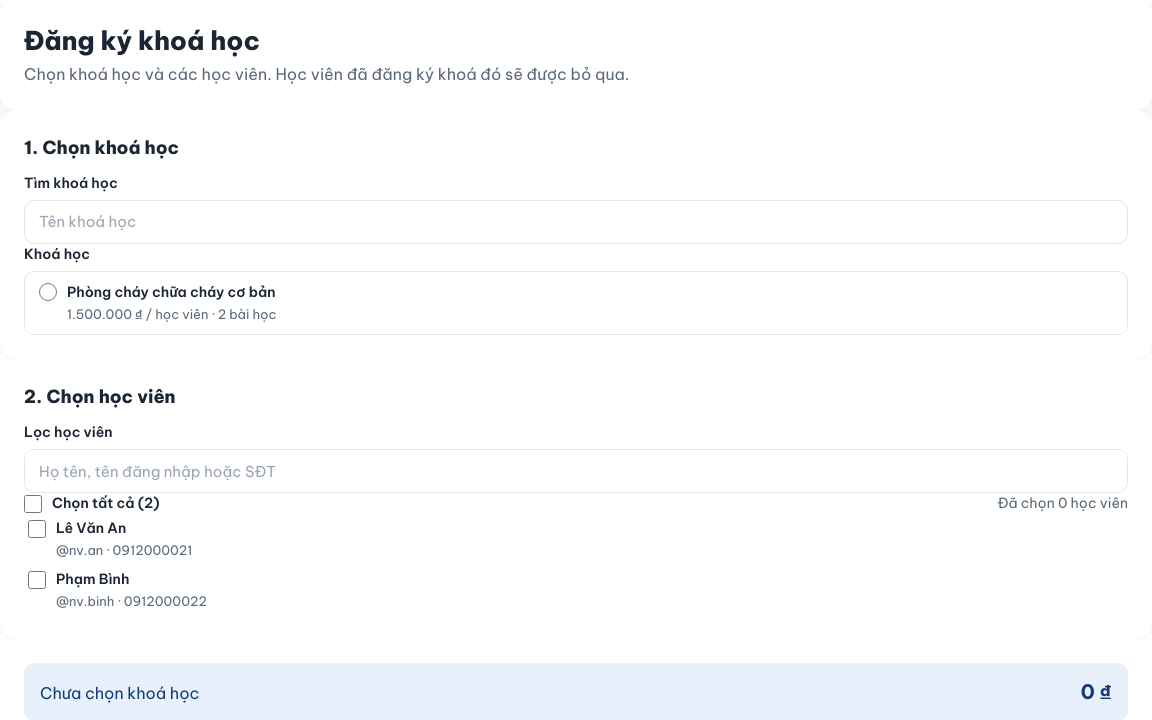
Góc doanh nghiệp › enrolls several learners and shows the transfer for the total
Click the radio button labelled "Phòng cháy chữa cháy cơ bản" at (48, 292), box [39,283,57,301]
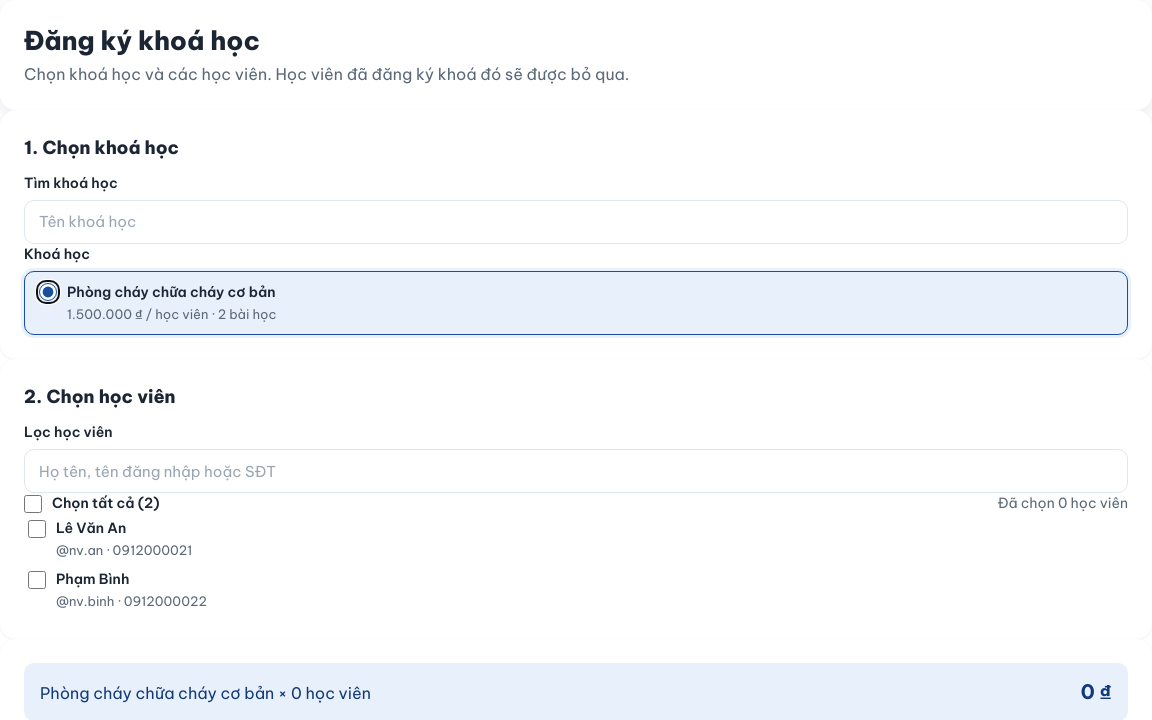
Click the checkbox labelled "Chọn tất cả (2)" at (33, 504), box [24,495,42,513]
(page scrolled)
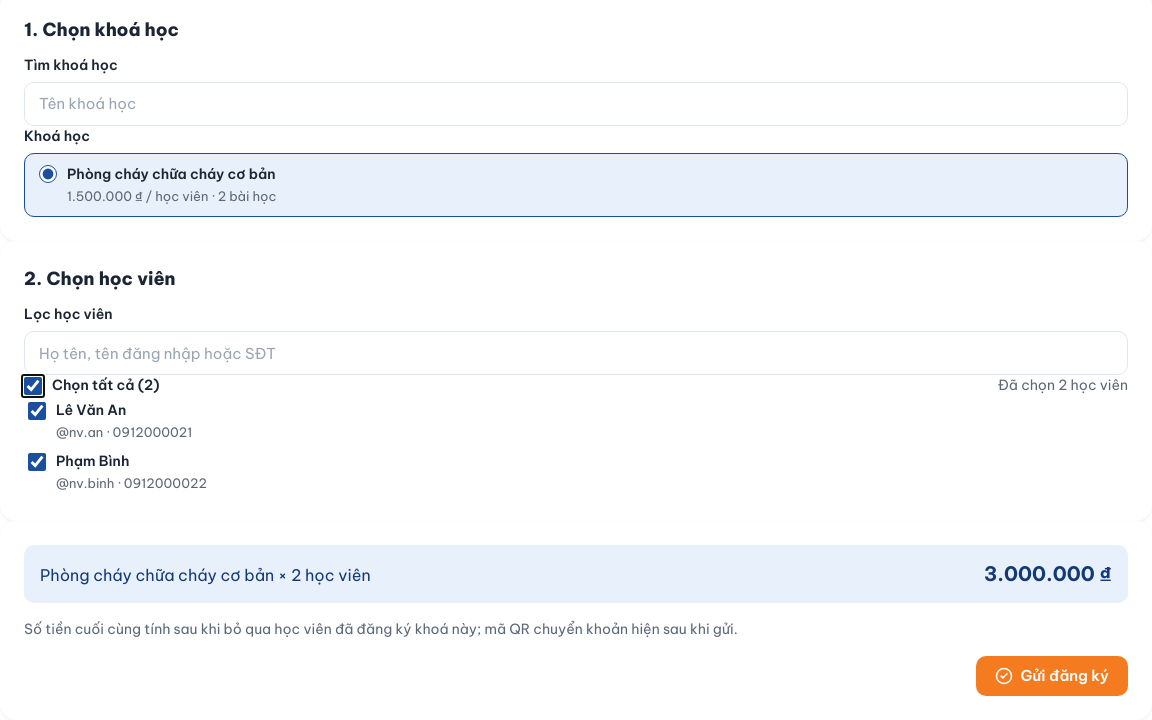
Expected: the text "Đã chọn 2 học viên" is shown, [998,375,1128,396]
Click the button "Gửi đăng ký" at (1052, 676), box [976,656,1128,696]
(page scrolled)
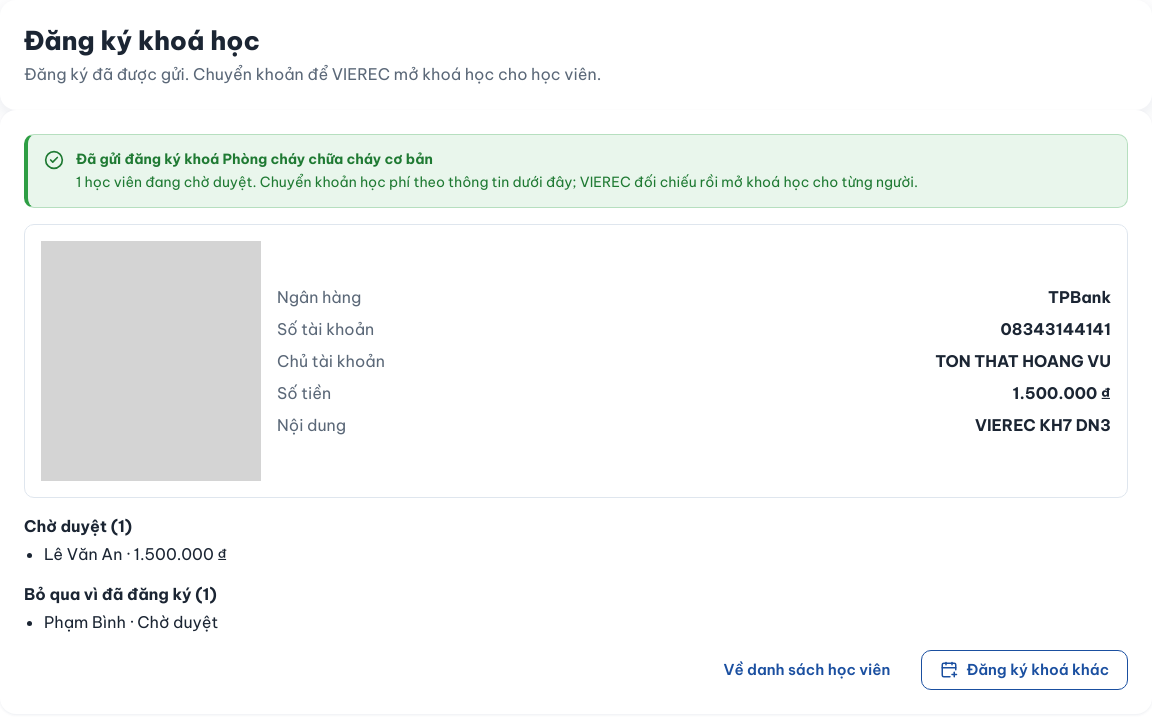
Expected: the list item "Phạm Bình · Chờ duyệt" is shown, [44,612,218,632]
